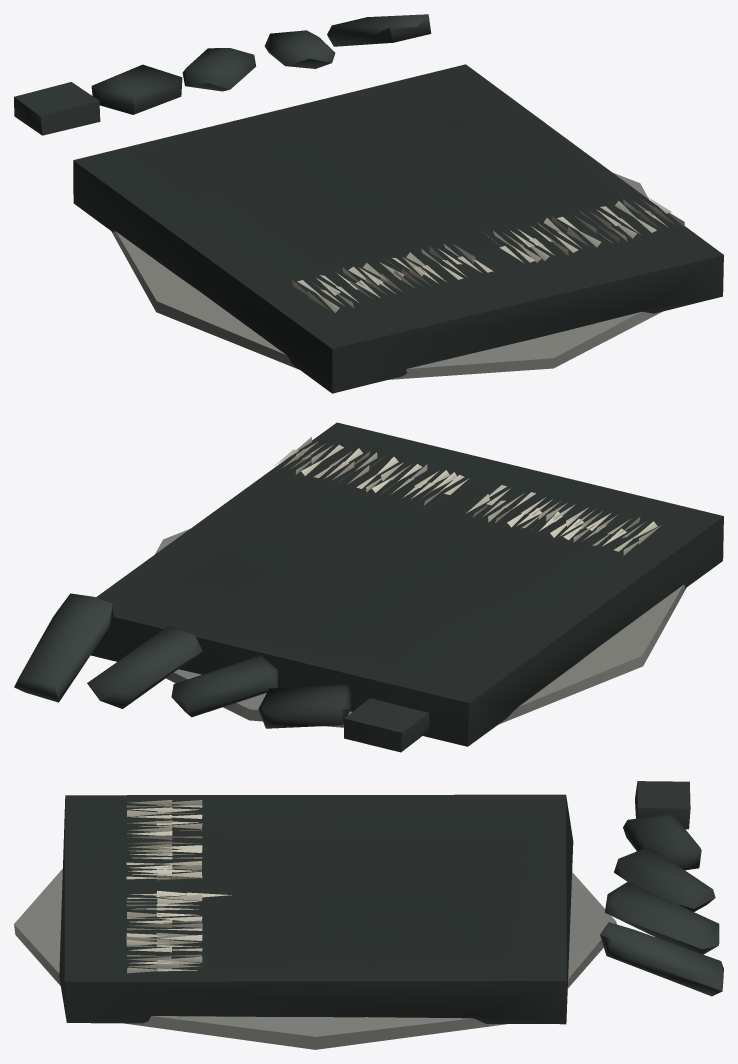
Rendered from tally_slab_b_lod2.glb.
3 renders of one model, top to bottom at view 1: azimuth 30°, elevation 25°; view 2: azimuth 150°, elevation 25°; view 3: azimuth 270°, elevation 25°, orthographic. The views are drawn at different scales.
Parts seen in each view (by area): view 1: Surface.001; view 2: Surface.001; view 3: Surface.001.
Part boxes in pixels (x1=…): Surface.001: x1=14, y1=14, x2=723, y2=393; Surface.001: x1=14, y1=422, x2=723, y2=752; Surface.001: x1=14, y1=781, x2=723, y2=1049.
Size of the model in its own units: 1.8 by 0.3065 by 2.35.
